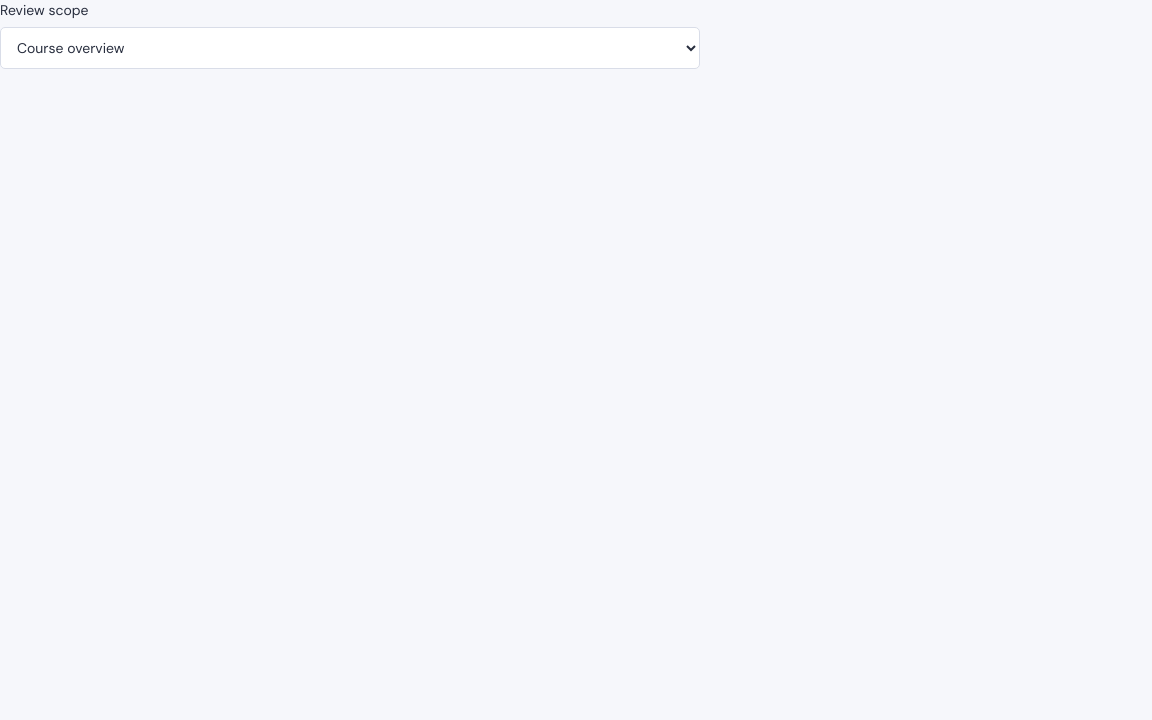
Test: keeps a failed save and offers explicit keep-draft switching
Later steps or results of the test are not shown.
Select "Course overview" in the dropdown at (350, 48), box [0,27,700,69]
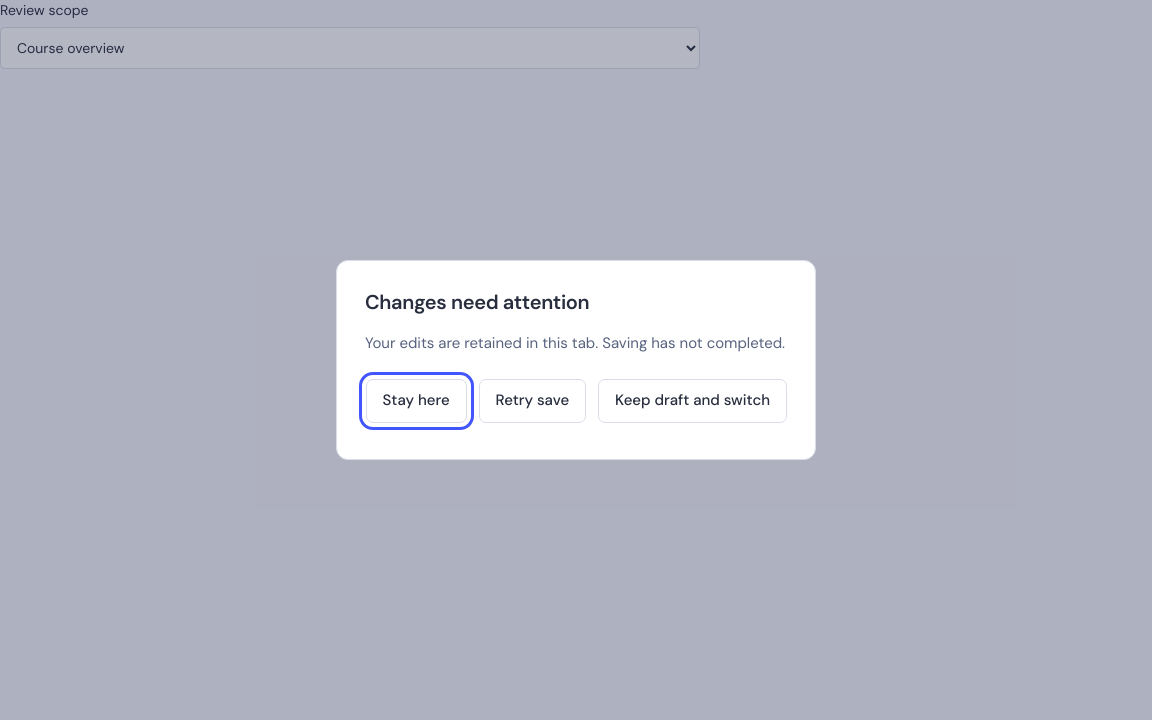
Result: the heading "Changes need attention" is shown at [365,290,589,316]
